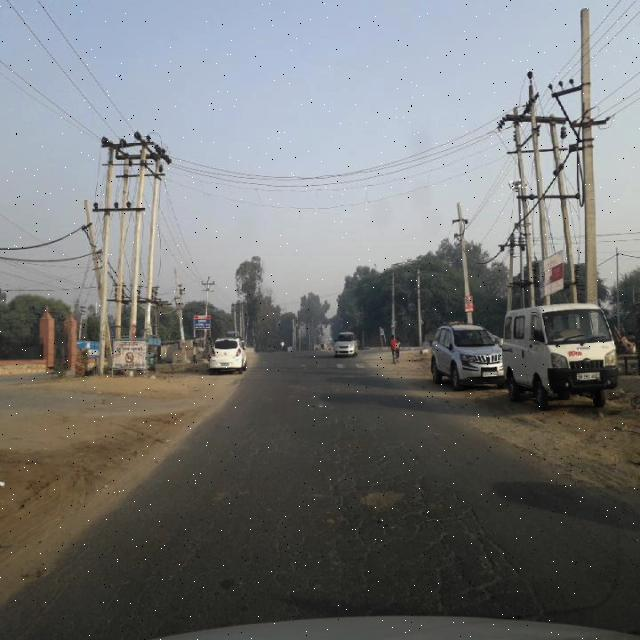D20: (207, 417, 579, 610)
